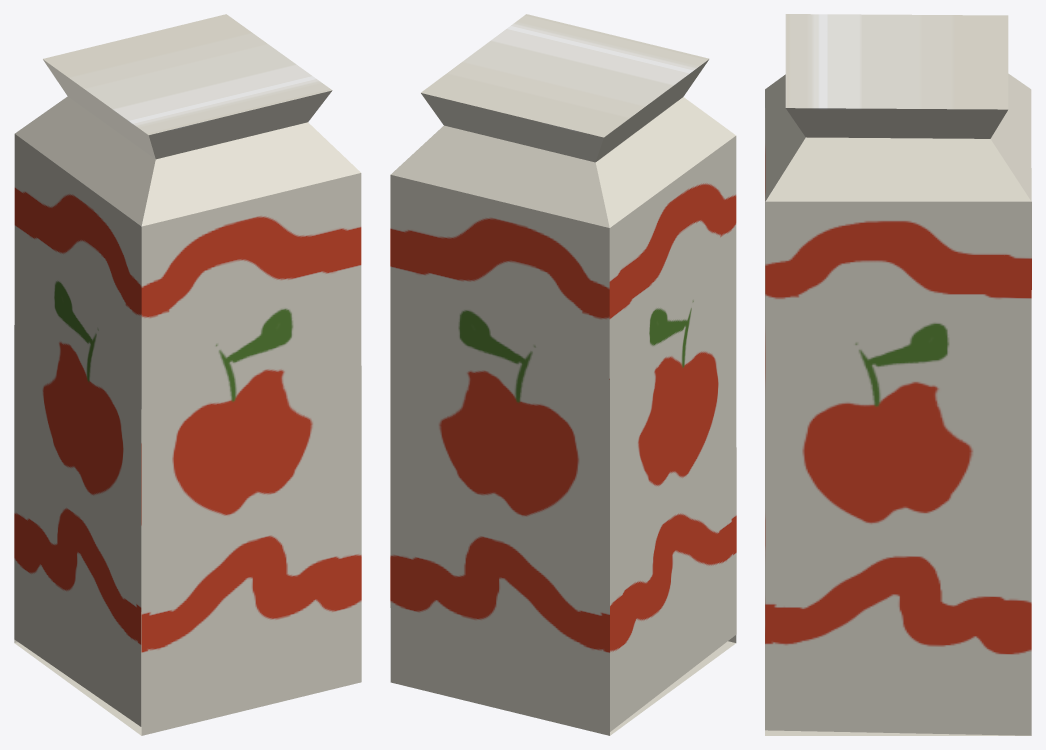
File: Apple.glb
The picture shows the model from 3 angles, left to right: view 1: azimuth 30°, elevation 25°; view 2: azimuth 150°, elevation 25°; view 3: azimuth 270°, elevation 25°; orthographic projection. The views are drawn at different scales.
Parts seen in each view (by area): view 1: Apple; view 2: Apple; view 3: Apple.
Part boxes in pixels (x1,y1,x2,y2): Apple: (14,14,361,735); Apple: (390,14,736,735); Apple: (765,14,1031,735).
Bounding box in the file's own units: 0.1525 × 0.3897 × 0.1525.
Materials: 1 (1 with a texture image).
